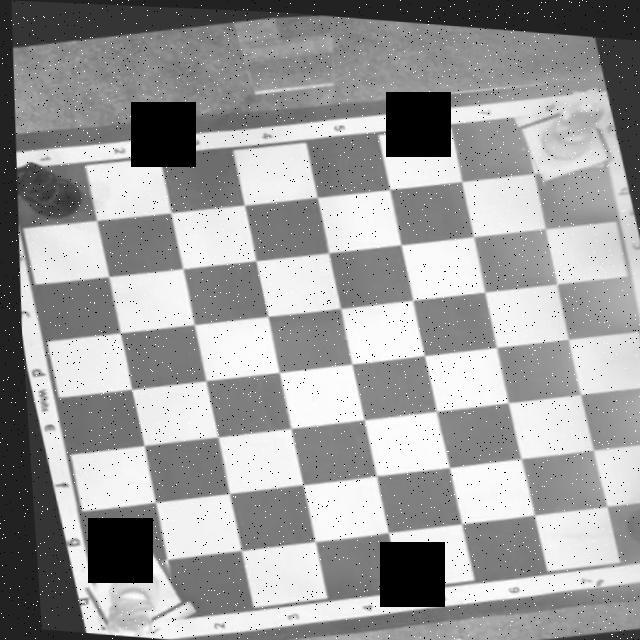chess-table-corners: (566, 78, 611, 124), (84, 598, 106, 634), (12, 150, 24, 192)
